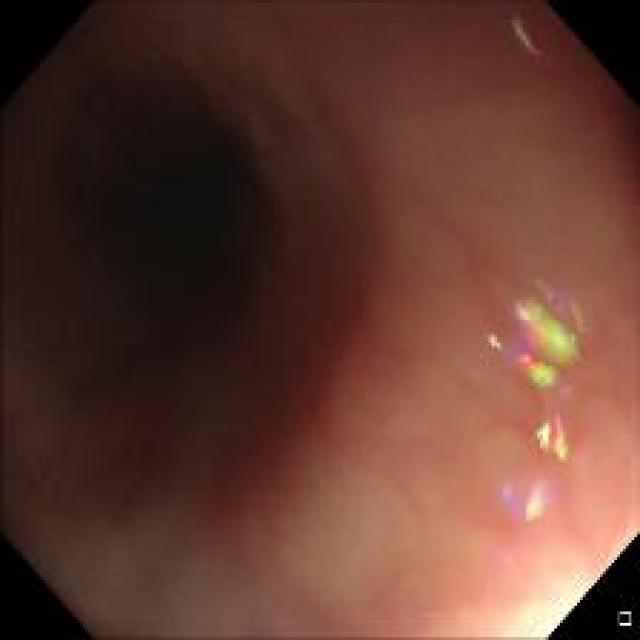color misalignment: (479, 271, 595, 390), (491, 475, 558, 540), (530, 409, 580, 470), (509, 10, 554, 69)
contrast: (25, 75, 356, 474)
saturation: (460, 540, 621, 632)
